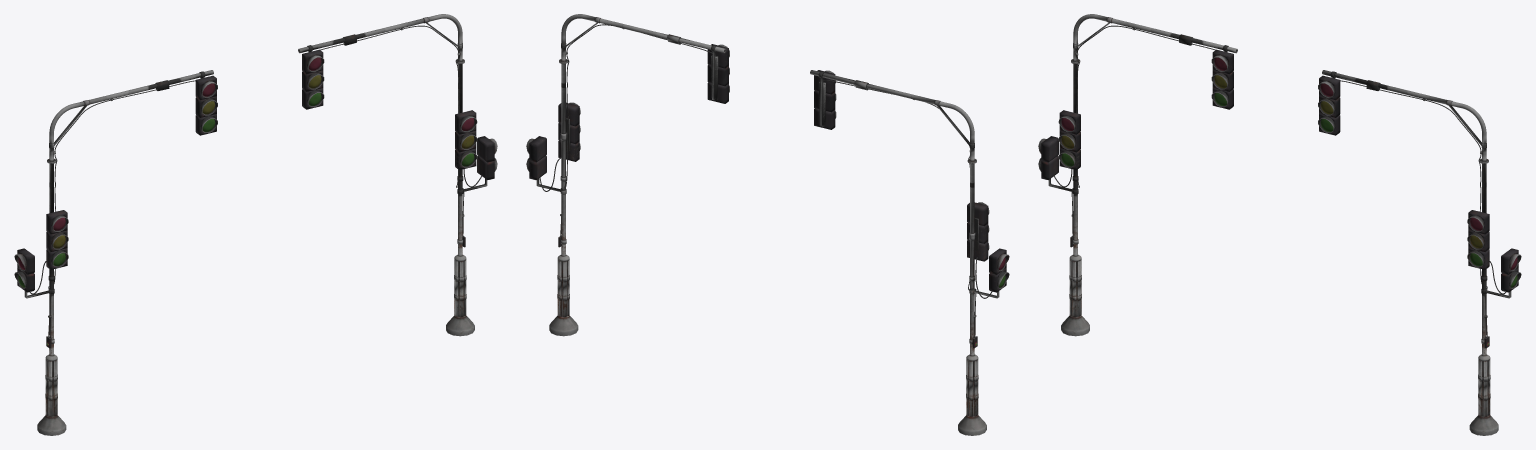
Rendered from trafficlight.glb.
3 views of the same model, side by side, from view 1: azimuth 30°, elevation 25°; view 2: azimuth 150°, elevation 25°; view 3: azimuth 330°, elevation 25° (orthographic).
Visible parts, largest first — view 1: TrafficLight; view 2: TrafficLight; view 3: TrafficLight.
Boxes of the visible parts, <box> form: TrafficLight: <box>14,14,497,435</box>; TrafficLight: <box>526,14,1009,435</box>; TrafficLight: <box>1038,14,1521,435</box>.
Size of the model in its own units: 2.65 by 1.71 by 0.1677.
Materials: 1 (1 with a texture image).
